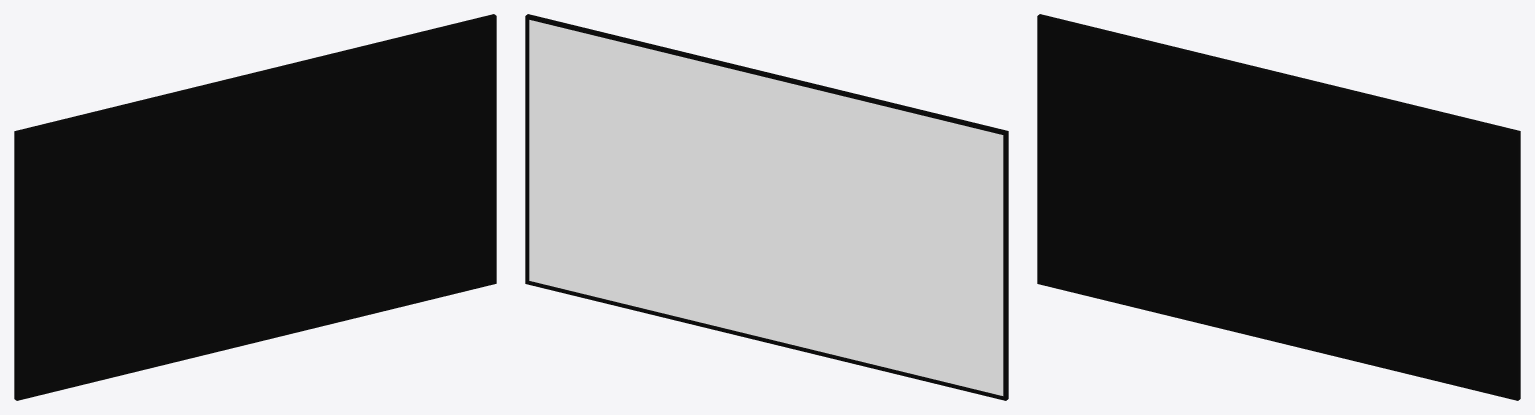
File: meeting-projector.glb
3 views of the same model, side by side, from view 1: azimuth 30°, elevation 25°; view 2: azimuth 150°, elevation 25°; view 3: azimuth 330°, elevation 25° (orthographic).
Visible parts, largest first — view 1: meeting_projector; view 2: meeting_projector (×2); view 3: meeting_projector.
Boxes of the visible parts, box(x1,y1,x2,y2) form: meeting_projector: box(14, 14, 496, 400); meeting_projector (×2): box(525, 14, 1008, 400); meeting_projector: box(1037, 14, 1520, 400).
Bounding box in the file's own units: 42.94 × 22.9 × 0.4394.
2 materials, 2 textured.
